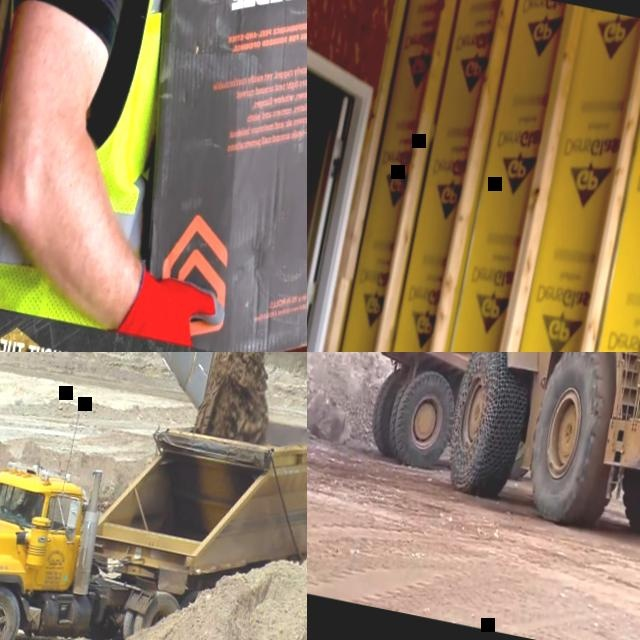Person: (0, 0, 307, 351), (9, 489, 41, 519)
Safety Vest: (0, 0, 233, 332), (19, 497, 39, 518)
machinery: (0, 352, 307, 640), (384, 352, 640, 563), (315, 352, 540, 479), (123, 352, 307, 459)
